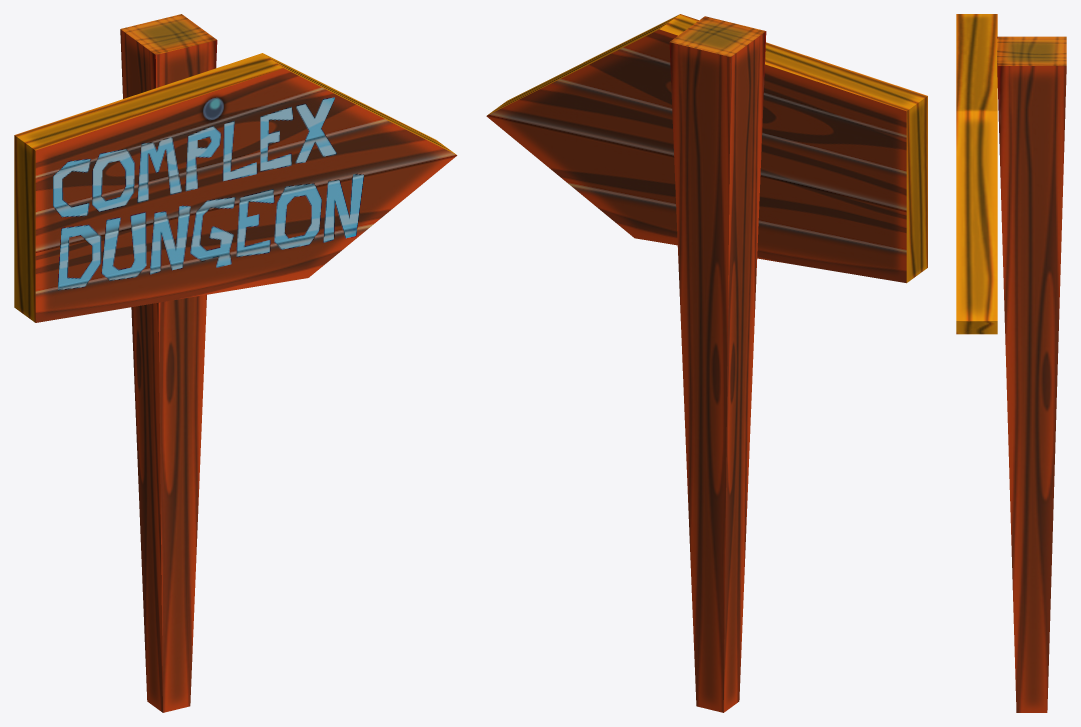
The model's file is sign.FBX.
The picture shows the model from 3 angles, left to right: view 1: azimuth 30°, elevation 25°; view 2: azimuth 150°, elevation 25°; view 3: azimuth 270°, elevation 25°; orthographic projection. The views are drawn at different scales.
Visible parts, largest first — view 1: sign; view 2: sign; view 3: sign.
Boxes of the visible parts, x1,y1,x2,y2 form: sign: (14,14,457,712); sign: (486,14,927,712); sign: (956,14,1066,712).
Size of the model in its own units: 2.92 by 0.6754 by 4.42.
